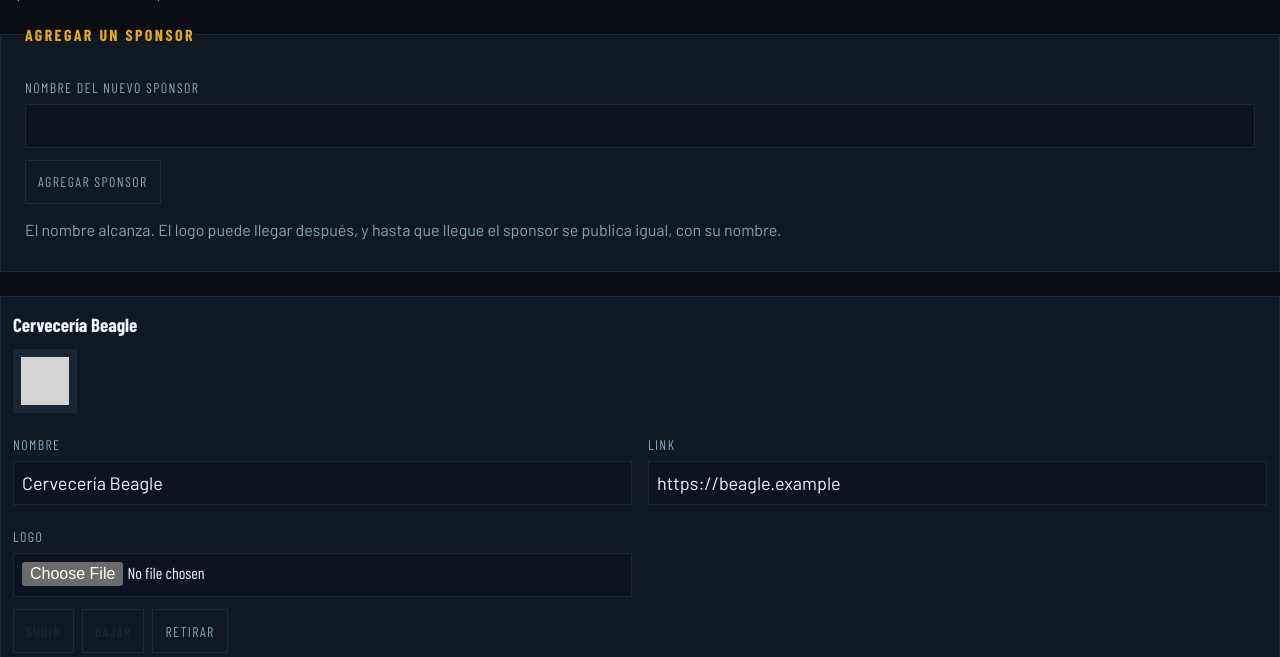
Test: SponsorsScreen › shows the logo a sponsor already has, and writes the path and never a URL
The width and height of the screenshot is (1280, 657).
Replace the text in the field labelled "Nombre" with "Cervecería Beagle SRL" at (322, 483), box [13,461,632,505]
(page scrolled)
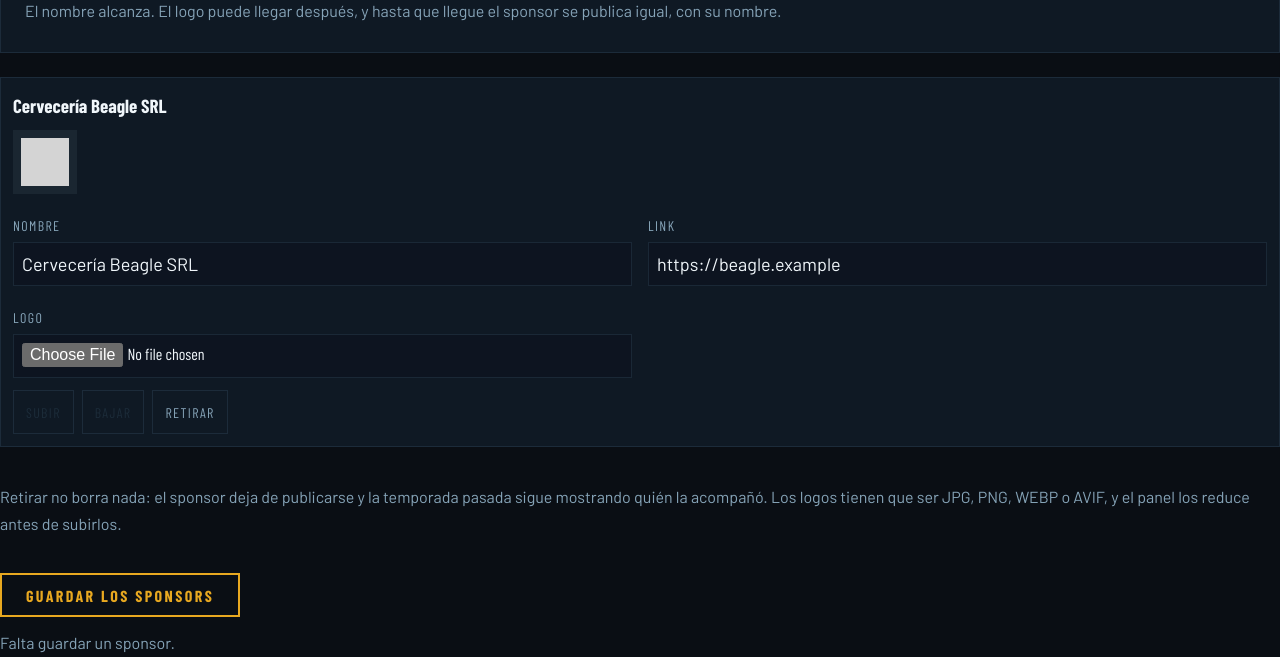
Click the button "Guardar los sponsors" at (120, 595), box [0,573,240,617]
(page scrolled)
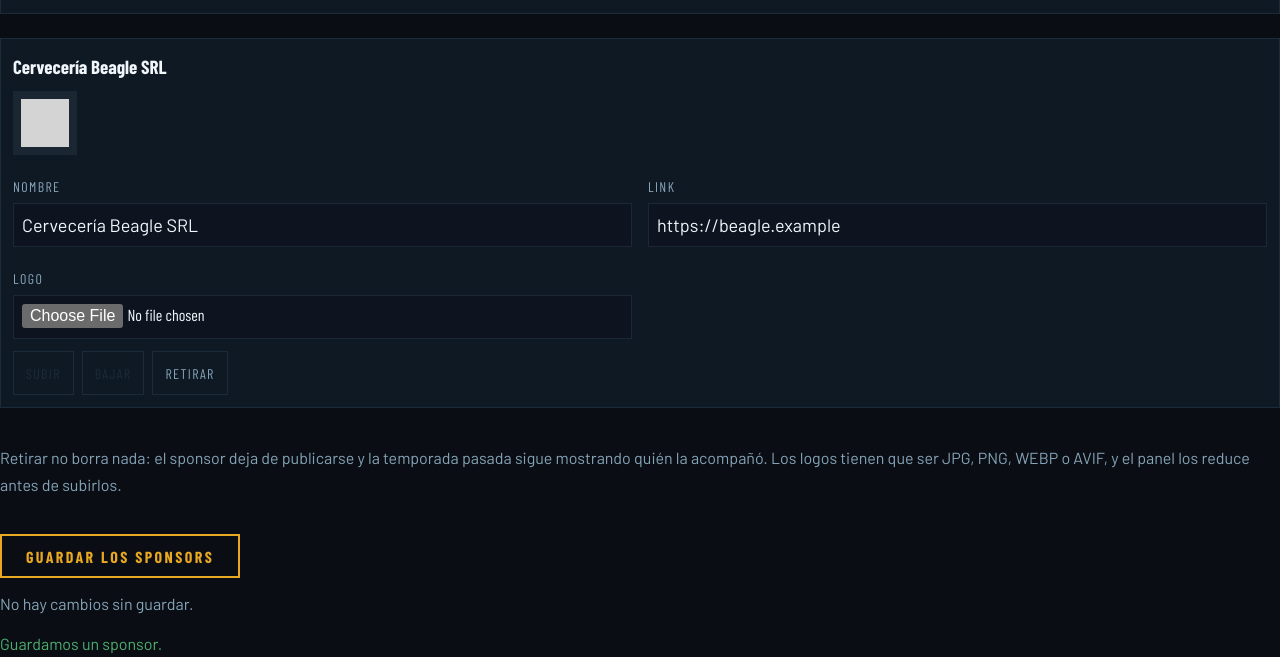
Check: the text "Guardamos un sponsor." is shown, box [0,630,162,656]
